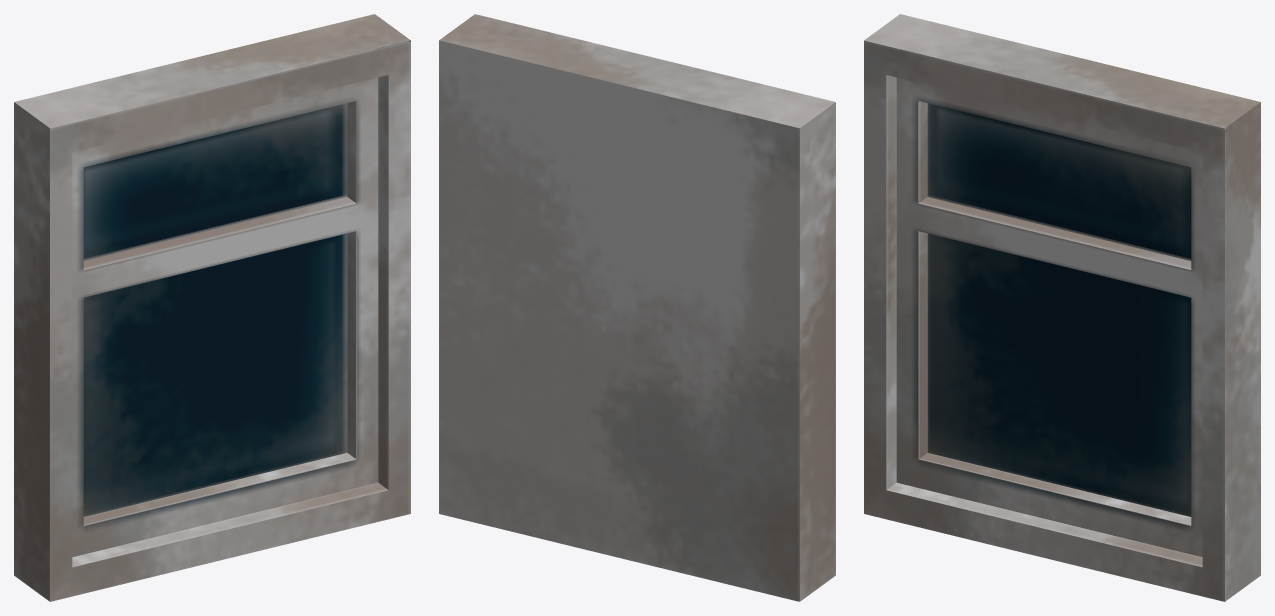
Rendered from VENTANAV2.fbx.
3 views of the same model, side by side, from view 1: azimuth 30°, elevation 25°; view 2: azimuth 150°, elevation 25°; view 3: azimuth 330°, elevation 25° (orthographic).
Parts seen in each view (by area): view 1: Ventana.001; view 2: Ventana.001; view 3: Ventana.001.
Boxes of the visible parts, x1,y1,x2,y2 form: Ventana.001: (14,14,410,601); Ventana.001: (439,14,835,601); Ventana.001: (864,14,1260,601).
Size of the model in its own units: 212 by 266 by 36.73.
